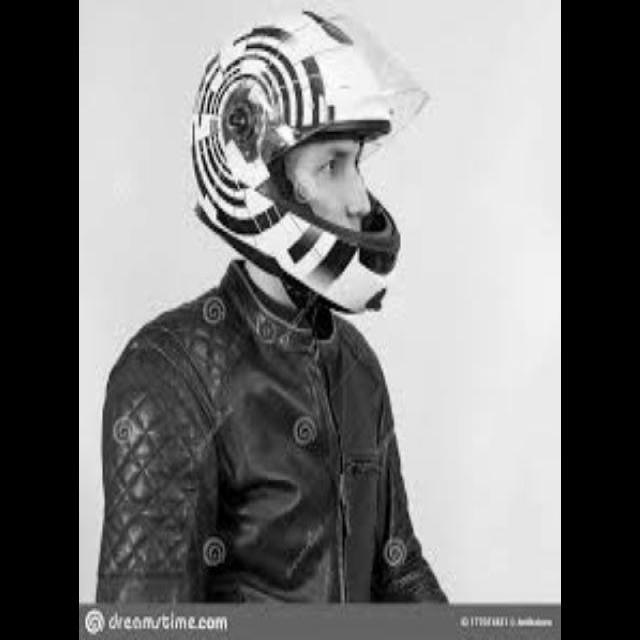5_casco: (178, 6, 420, 326)
